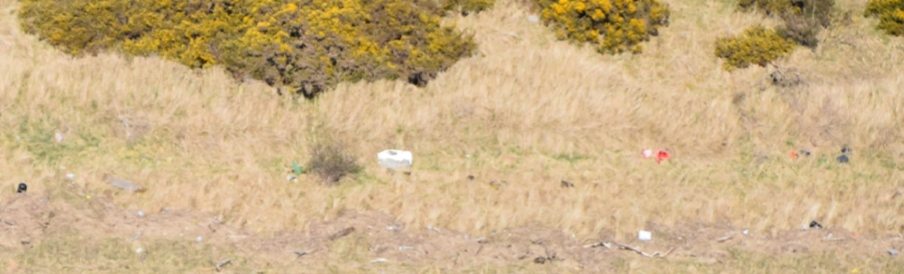scattered_barrel: (624, 118, 859, 253)
white_in_green: (349, 124, 441, 192), (1, 156, 48, 212)
